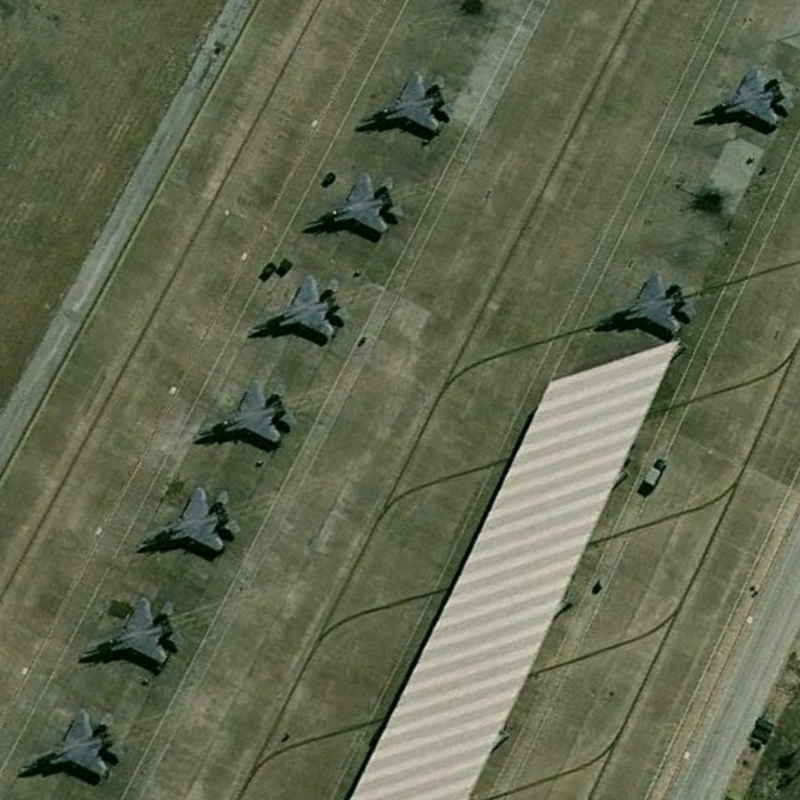A13: (12, 705, 127, 783), (76, 593, 187, 671), (132, 483, 245, 559), (589, 267, 700, 344), (191, 375, 300, 450), (300, 167, 406, 239), (250, 271, 351, 346), (351, 67, 457, 138), (693, 63, 795, 131)
